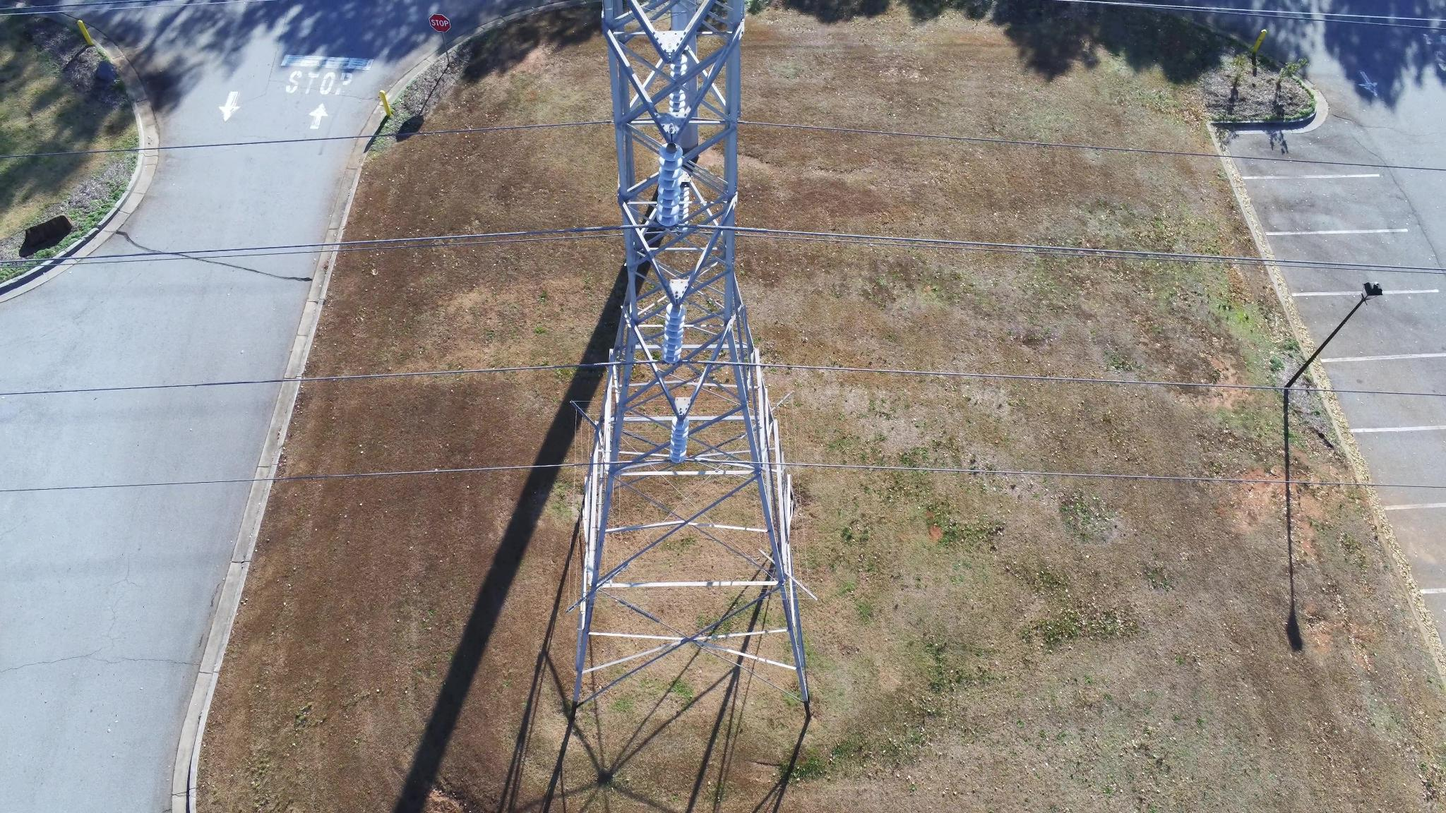tower: (559, 2, 828, 714)
